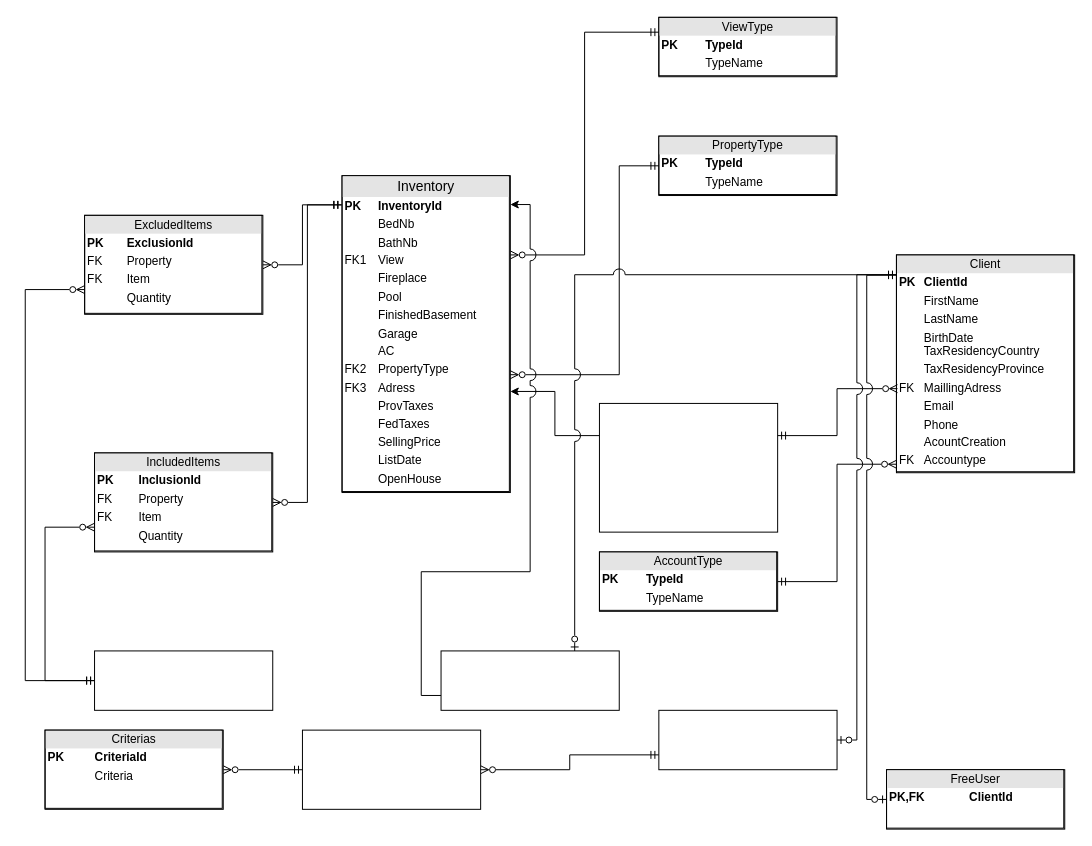
Some shapes in this 1092 by 846 pixel diagram are drawn without their labels. The centre of each missing label's shape, as x and y in pixels:
"Adress PK AdressId Street City PostalCode Country Suite" belongs at [688,467].
"Items PK ItemId ItemName" belongs at [183,680].
"PaidUser PK,FK ClientId FK WishlistId" belongs at [747,739].
"Seller PK,FK ClientId FK PropertyId" belongs at [529,680].
"Wishlist PK WishlistId FK UserId FK CriteriaID" belongs at [391,769].
